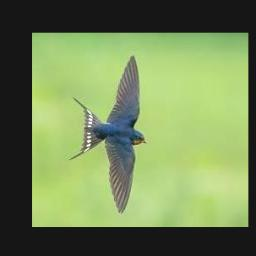Swallow: (68, 55, 147, 214)
